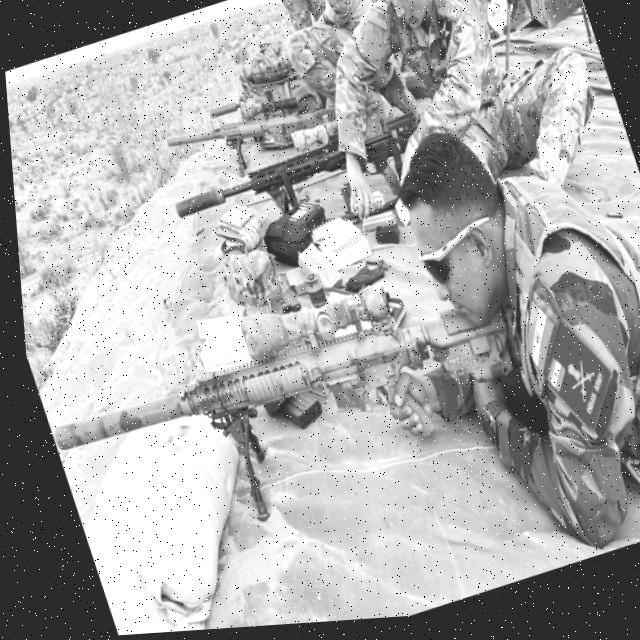firearm: (17, 226, 525, 541), (163, 124, 412, 260), (157, 79, 336, 188)
